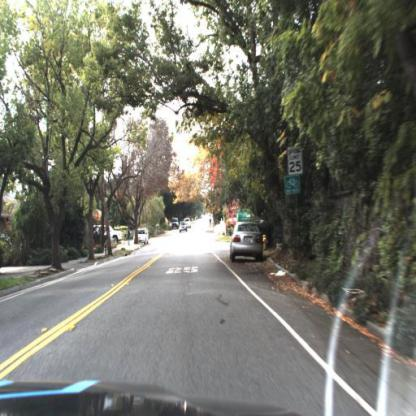car: (228, 220, 266, 263)
pedestrian: (127, 228, 133, 246), (210, 218, 213, 228)
